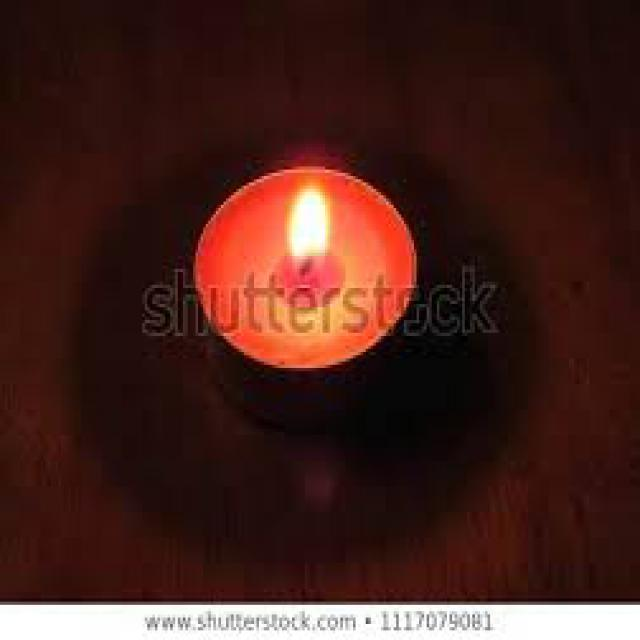fire: (275, 187, 334, 273)
